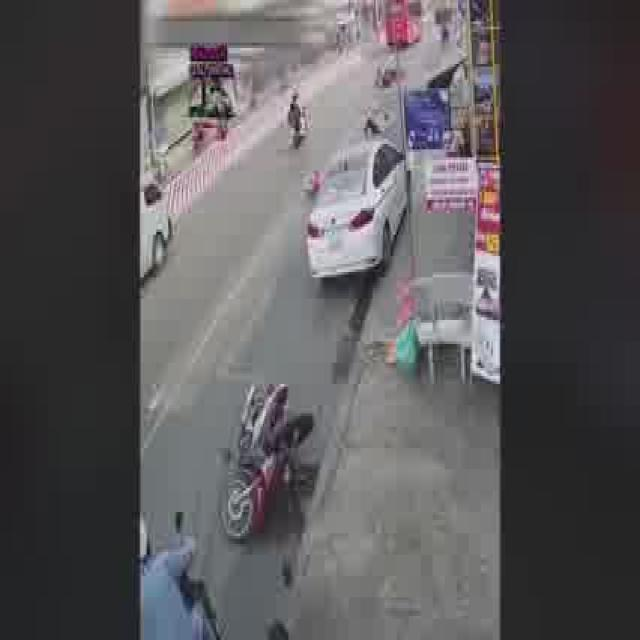multiple_accident: (214, 365, 326, 559), (364, 50, 409, 94), (360, 102, 393, 138)
normal: (279, 79, 314, 156)
